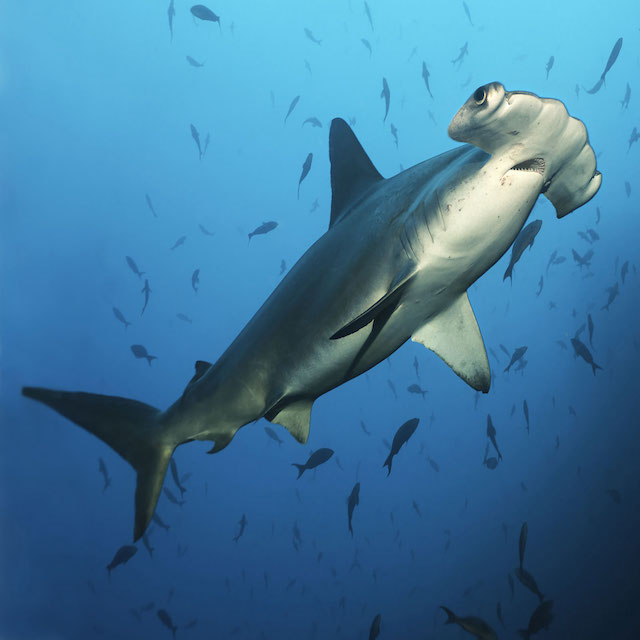hammerhead: (18, 85, 606, 541)
